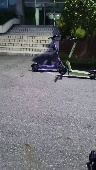beam: (29, 36, 66, 72)
gcooter: (59, 39, 96, 79)
